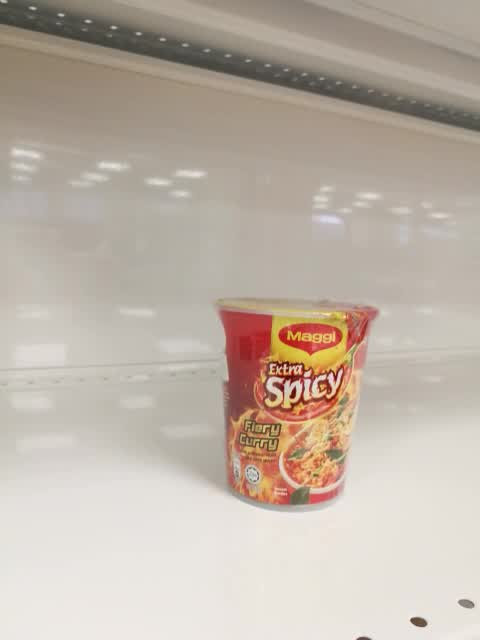maggi: (214, 293, 382, 515)
